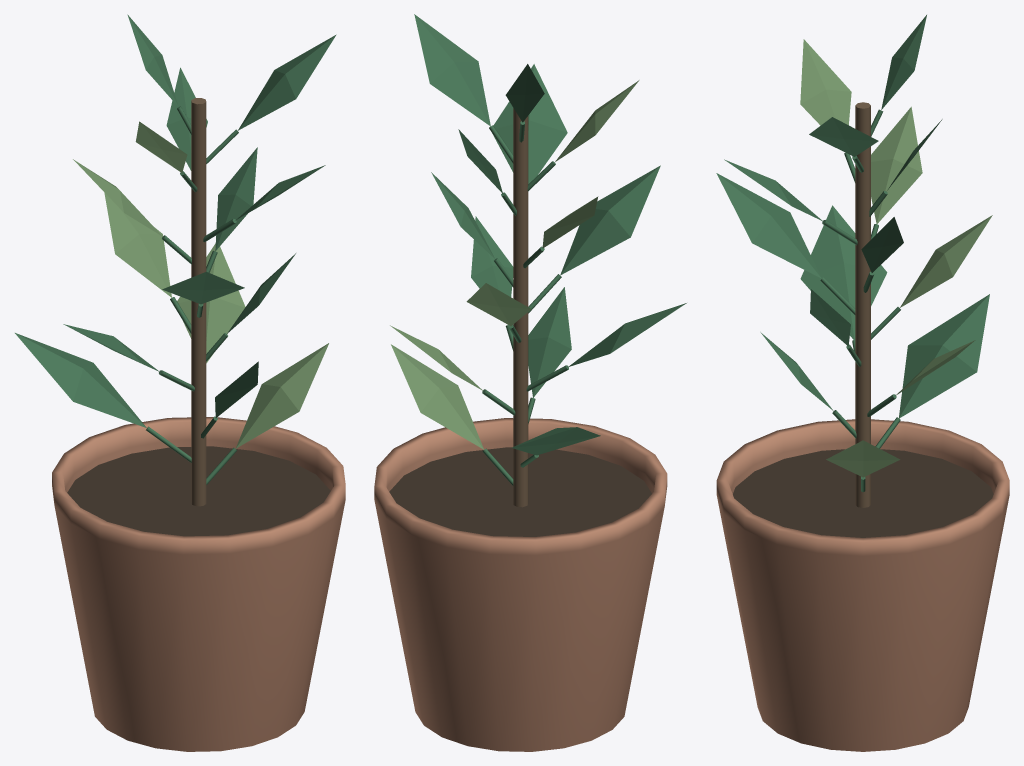
File: plant_potted_medium.glb
3 views of the same model, side by side, from view 1: azimuth 30°, elevation 25°; view 2: azimuth 150°, elevation 25°; view 3: azimuth 270°, elevation 25° (orthographic).
Parts seen in each view (by area): view 1: plant_potted_medium; view 2: plant_potted_medium; view 3: plant_potted_medium.
Part boxes in pixels (x1,y1,x2,y2): plant_potted_medium: (15,14,345,751); plant_potted_medium: (374,14,686,751); plant_potted_medium: (716,15,1009,751).
Size of the model in its own units: 0.3754 by 0.8627 by 0.3405.
